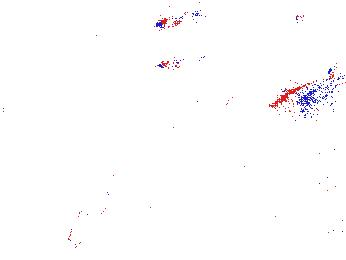X-ray fish: (122, 176, 159, 210)
glassfish: (65, 168, 123, 260)
red belly glassfish: (152, 4, 205, 29), (155, 54, 206, 72), (291, 9, 338, 26)
